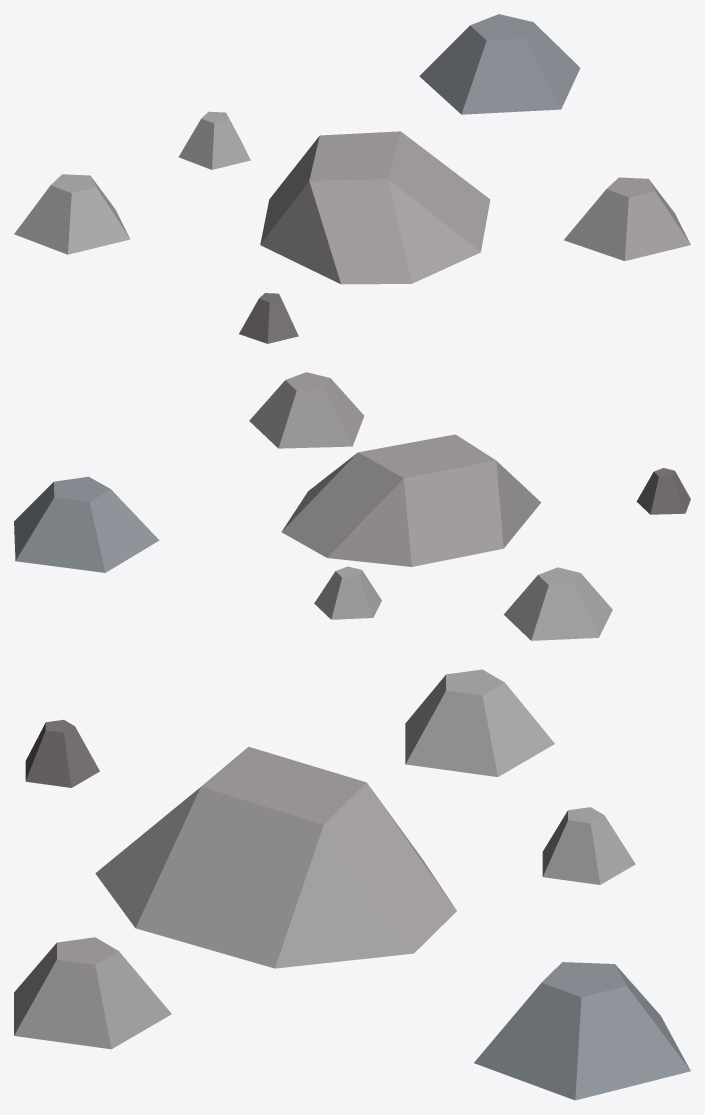
Rendered from Rocks_Round_s_02 5.fbx.
3 renders of one model, top to bottom at view 1: azimuth 30°, elevation 25°; view 2: azimuth 150°, elevation 25°; view 3: azimuth 270°, elevation 25°, orthographic. The views are drawn at different scales.
Parts seen in each view (by area): view 1: Rocks_Round_s_02; view 2: Rocks_Round_s_02; view 3: Rocks_Round_s_02.
Part boxes in pixels (bbox=[...]): Rocks_Round_s_02: bbox=[14, 14, 690, 343]; Rocks_Round_s_02: bbox=[14, 372, 690, 640]; Rocks_Round_s_02: bbox=[14, 669, 690, 1100].
Size of the model in its own units: 56.08 by 6.51 by 41.15.
